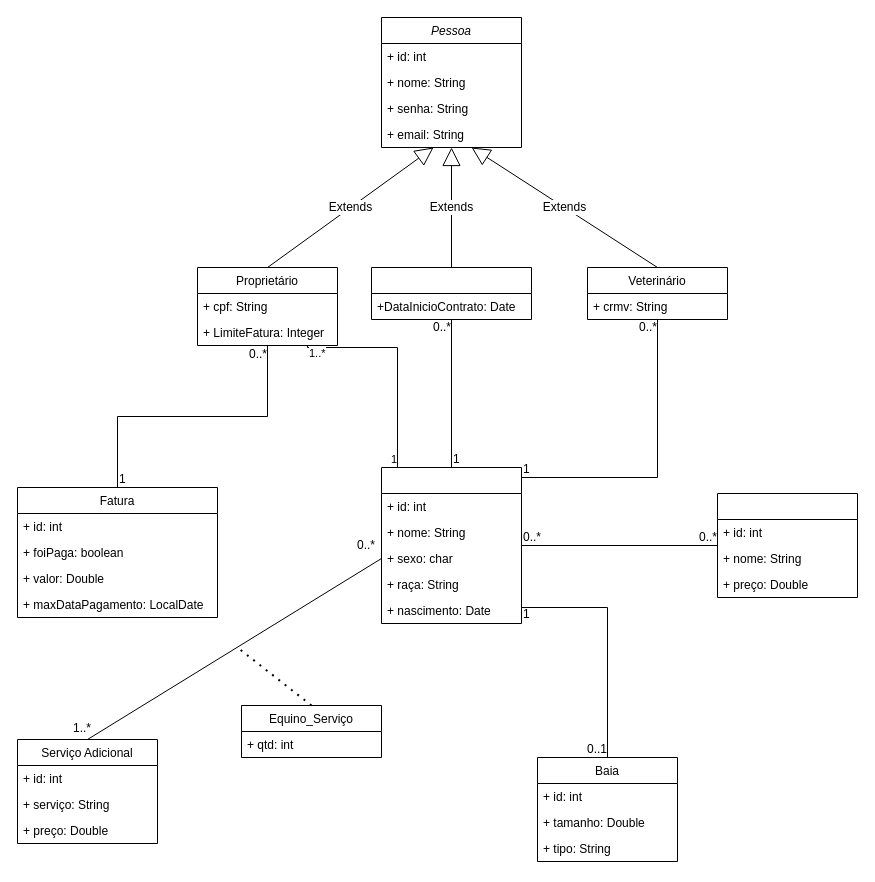
This 875x882 diagram has some shape labels left out. Here are the shapes that lost their labels. From the top down, the box of each, then its label:
(370, 266, 532, 320): Cuidador
(380, 466, 522, 624): Equino
(716, 492, 858, 598): Alimento
